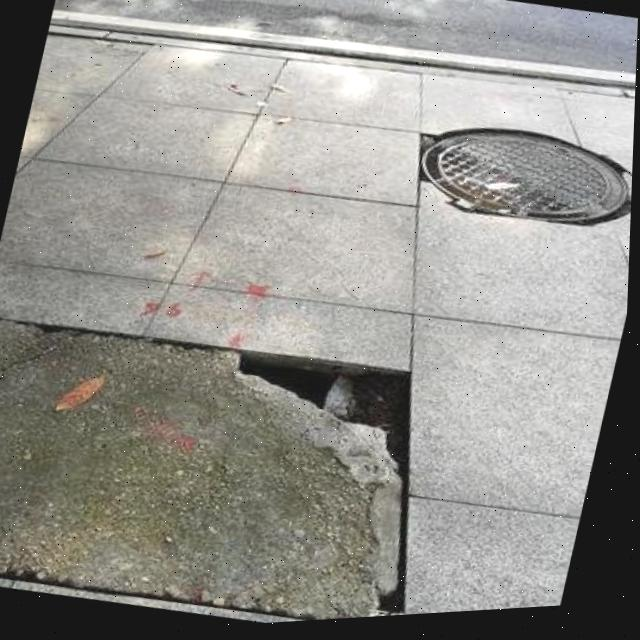manhole: (389, 97, 636, 266)
